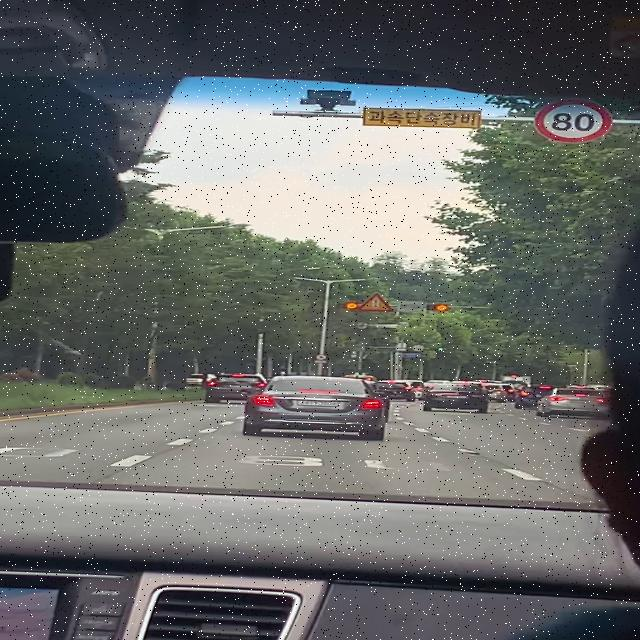yellow_light: (426, 304, 448, 312), (336, 302, 357, 310)
